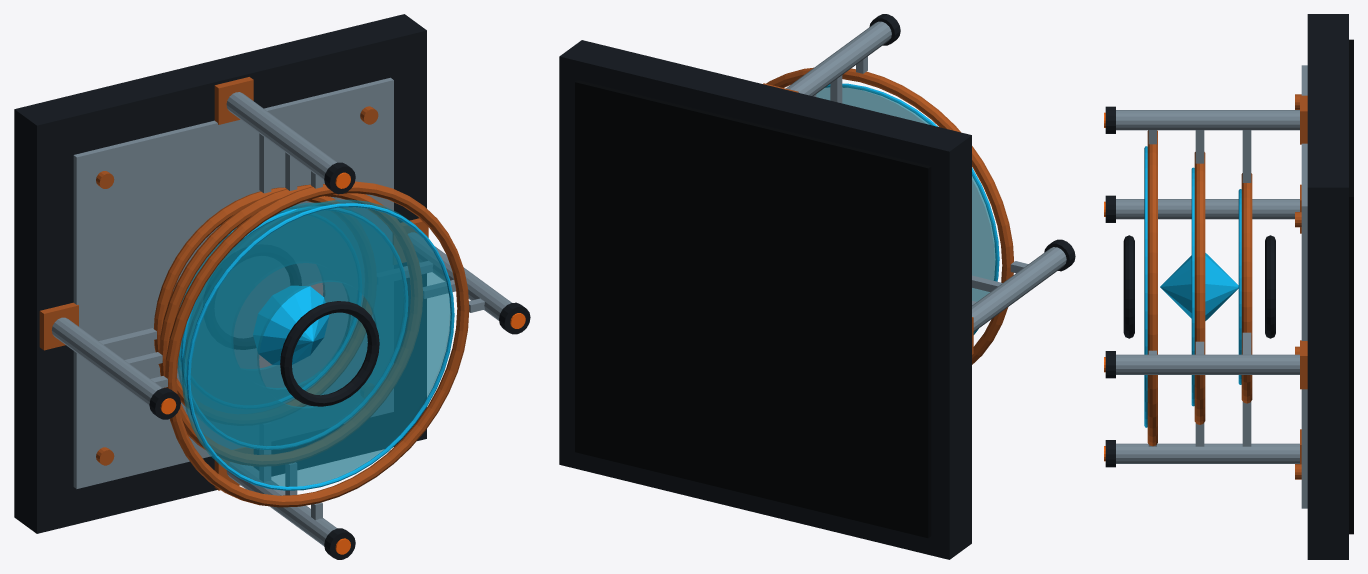
3 views of the same model, side by side, from view 1: azimuth 30°, elevation 25°; view 2: azimuth 150°, elevation 25°; view 3: azimuth 270°, elevation 25° (orthographic). The views are drawn at different scales.
Parts seen in each view (by area): view 1: mount_plate, raised_inset, transparent_slice_3, transparent_slice_2, field_ring_3, field_ring_2, field_trace_3, transparent_slice_1, field_ring_1, pulse_crystal, core_clamp_top, cage_post_XN (+8 smaller); view 2: mount_gasket, mount_plate, field_ring_3, transparent_slice_3, cage_post_XN, cage_post_YP, field_trace_3; view 3: mount_plate, cage_post_XP, cage_post_YP, cage_post_YN, field_ring_3, cage_post_XN, field_ring_2, mount_gasket, raised_inset, pulse_crystal, field_ring_1, core_clamp_top (+9 smaller).
Boxes of the visible parts, left/top/right/bottom form: mount_plate: left=14, top=14, right=426, bottom=533; raised_inset: left=73, top=77, right=393, bottom=488; transparent_slice_3: left=182, top=199, right=450, bottom=486; transparent_slice_2: left=177, top=202, right=403, bottom=445; field_ring_3: left=165, top=181, right=469, bottom=507; field_ring_2: left=159, top=184, right=422, bottom=466; field_trace_3: left=186, top=203, right=454, bottom=490; transparent_slice_1: left=178, top=206, right=357, bottom=399; field_ring_1: left=154, top=187, right=372, bottom=409; pulse_crystal: left=253, top=286, right=329, bottom=364; core_clamp_top: left=280, top=301, right=379, bottom=406; cage_post_XN: left=51, top=317, right=162, bottom=405; mount_gasket: left=575, top=80, right=931, bottom=538; mount_plate: left=559, top=40, right=971, bottom=559; field_ring_3: left=766, top=67, right=1013, bottom=364; transparent_slice_3: left=816, top=84, right=996, bottom=333; cage_post_XN: left=972, top=247, right=1066, bottom=331; cage_post_YP: left=786, top=21, right=891, bottom=96; field_trace_3: left=826, top=83, right=999, bottom=334; mount_plate: left=1307, top=14, right=1348, bottom=559; cage_post_XP: left=1116, top=354, right=1299, bottom=374; cage_post_YP: left=1116, top=110, right=1299, bottom=130; cage_post_YN: left=1116, top=443, right=1299, bottom=463; field_ring_3: left=1147, top=130, right=1157, bottom=446; cage_post_XN: left=1116, top=199, right=1299, bottom=219; field_ring_2: left=1194, top=152, right=1205, bottom=424; mount_gasket: left=1349, top=39, right=1353, bottom=534; raised_inset: left=1301, top=65, right=1307, bottom=508; pulse_crystal: left=1160, top=253, right=1238, bottom=320; field_ring_1: left=1241, top=173, right=1252, bottom=403; core_clamp_top: left=1123, top=235, right=1134, bottom=338.
Bounding box in the file's own units: 0.96 × 0.96 × 0.584.
